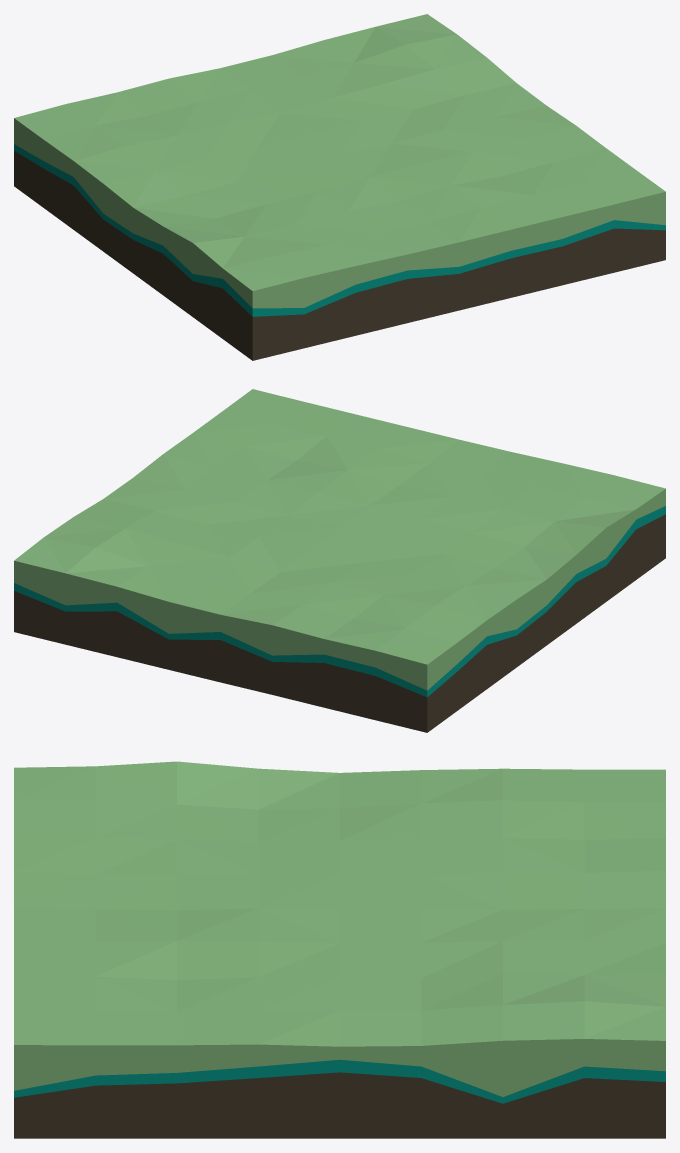
The model's file is MainPlaneSmall.fbx.
3 renders of one model, top to bottom at view 1: azimuth 30°, elevation 25°; view 2: azimuth 150°, elevation 25°; view 3: azimuth 270°, elevation 25°, orthographic. The views are drawn at different scales.
Visible parts, largest first — view 1: Cube.002; view 2: Cube.002; view 3: Cube.002.
Part boxes in pixels (x1,y1,x2,y2): Cube.002: [14, 14, 665, 360]; Cube.002: [14, 389, 665, 732]; Cube.002: [14, 761, 665, 1138].
Size of the model in its own units: 2126 by 370 by 2126.
